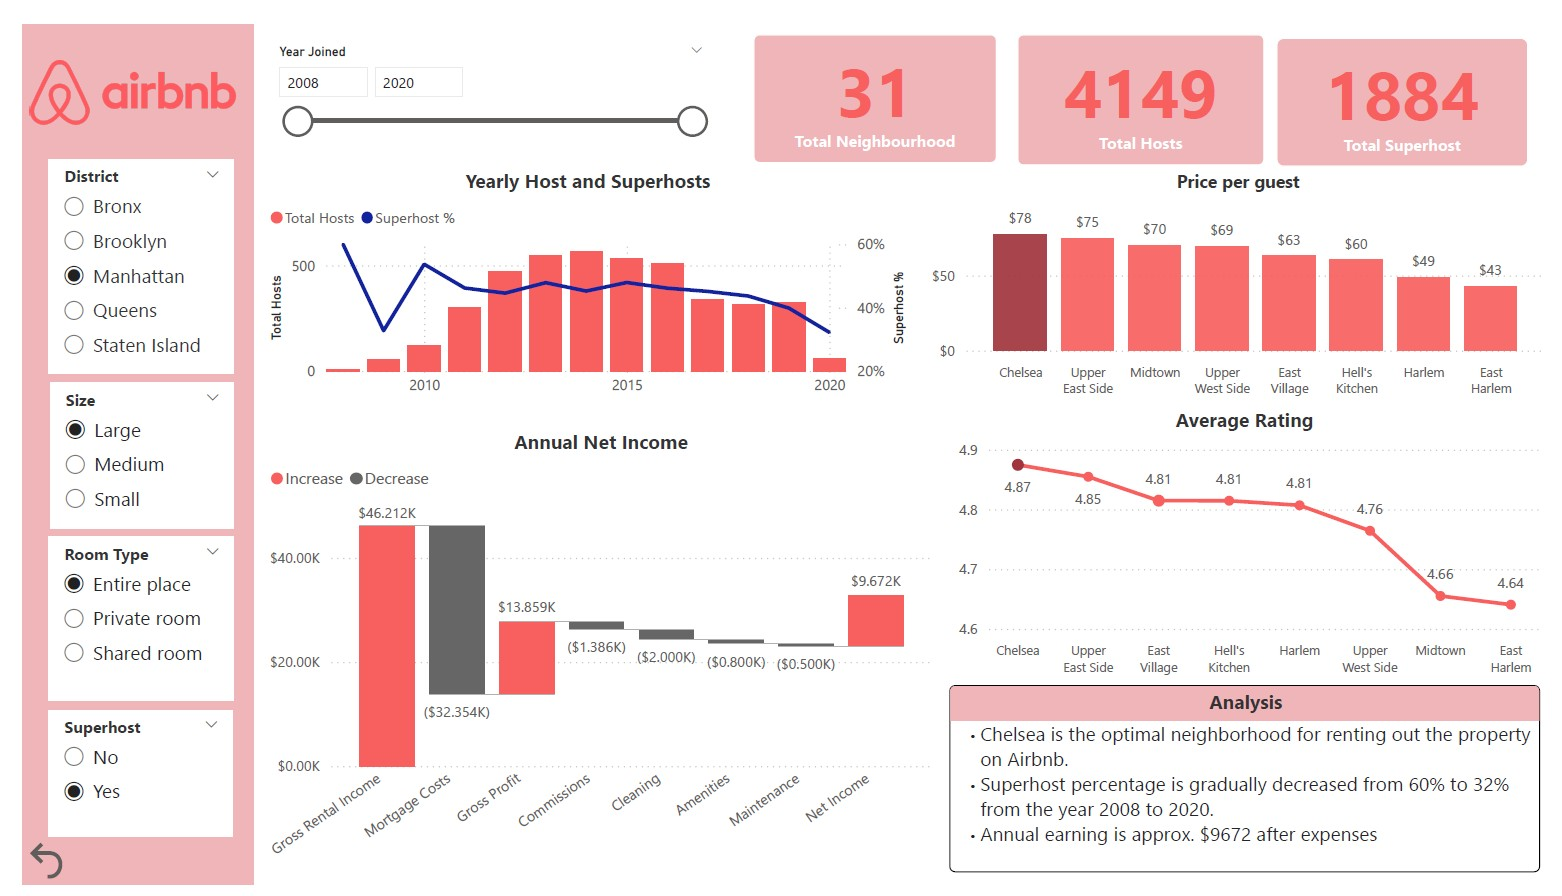

Layout of this report page (visuals, bound fields, positions):
{"tool":"powerbi","page":{"name":"Page 3","canvas":[1280,720],"ordinal":0},"visuals":[{"type":"shape","box":[0,0,193.2,720.2],"z":0},{"type":"image","box":[1.2,8.6,182.2,96.6],"z":1000},{"type":"actionButton","box":[1029.2,437.7,39.8,39.8],"z":2000},{"type":"lineChart","title":"Average Rating","fields":{"Category":["Place.Neighborhood"],"Y":["Measure.Average Rating"]},"box":[766.7,320.4,513.6,232.3],"z":3000},{"type":"slicer","fields":{"Values":["Place.District"]},"box":[22,112.5,155.3,179.8],"z":4000},{"type":"slicer","fields":{"Values":["Place.Room Type"]},"box":[22,429.2,155.3,137],"z":5000},{"type":"slicer","fields":{"Values":["Place.Size"]},"box":[23.2,299.6,154.1,122.3],"z":6000},{"type":"slicer","fields":{"Values":["Host.Year Joined"]},"box":[201.7,11,380.1,94.7],"z":7000},{"type":"slicer","fields":{"Values":["Place.Superhost"]},"box":[22,573.5,154.1,106.4],"z":8000},{"type":"card","fields":{"Values":["Measure.Total Neighbourhood"]},"box":[612,8.2,204.5,108.4],"z":9000,"group":"g1"},{"type":"columnChart","title":"Price per guest","fields":{"Category":["Place.Neighborhood"],"Y":["Measure.Price per guest"]},"box":[755.7,121.1,524.6,199.3],"z":9000},{"type":"card","fields":{"Values":["Measure.Total Hosts"]},"box":[832.9,8.2,207.2,109.8],"z":10000,"group":"g1"},{"type":"lineClusteredColumnComboChart","title":"Yearly Host and Superhosts","fields":{"Y":["Measure.Total Hosts"],"Y2":["Measure.Superhost %"],"Category":["Host.Year Joined"]},"box":[201.8,119.8,542.9,200.5],"z":10000},{"type":"card","fields":{"Values":["Measure.Total Superhost"]},"box":[1049.7,10.9,211.3,108.4],"z":11000,"group":"g1"},{"type":"waterfallChart","title":"Annual Net Income ","fields":{"Category":["P&L.Particulars"],"Y":["Sum(P&L.Amount)"]},"box":[201.8,337.5,564.9,382.7],"z":11000},{"type":"textbox","title":"Analysis","box":[776.5,552.7,494,157.7],"z":12000},{"type":"group","id":"g1","title":"Group 1","box":[612,8.2,649.1,111.1],"z":13000},{"type":"actionButton","box":[0,679.9,117.4,40.4],"z":14001}]}

Visuals, with their boxes in screenshot pixels (x1, y1, x2, y2), scaled from the page's 1280x720 canvas onto the 1562x896 screenshot:
shape: [0, 0, 236, 895]
image: [1, 11, 224, 131]
actionButton: [1256, 545, 1305, 594]
"Average Rating" lineChart: [936, 399, 1561, 688]
slicer - Place.District: [27, 140, 216, 364]
slicer - Place.Room Type: [27, 534, 216, 705]
slicer - Place.Size: [28, 373, 216, 525]
slicer - Host.Year Joined: [246, 14, 710, 132]
slicer - Place.Superhost: [27, 714, 215, 846]
card - Measure.Total Neighbourhood: [747, 10, 996, 145]
"Price per guest" columnChart: [922, 151, 1561, 399]
card - Measure.Total Hosts: [1016, 10, 1269, 147]
"Yearly Host and Superhosts" lineClusteredColumnComboChart: [246, 149, 909, 399]
card - Measure.Total Superhost: [1281, 14, 1539, 148]
"Annual Net Income " waterfallChart: [246, 420, 936, 895]
"Analysis" textbox: [948, 688, 1550, 884]
"Group 1" group: [747, 10, 1539, 148]
actionButton: [0, 846, 143, 895]
